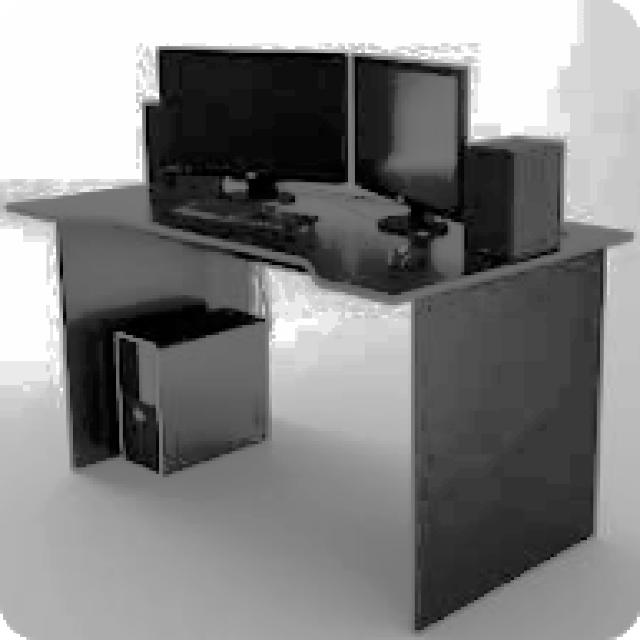table: (4, 176, 634, 630)
